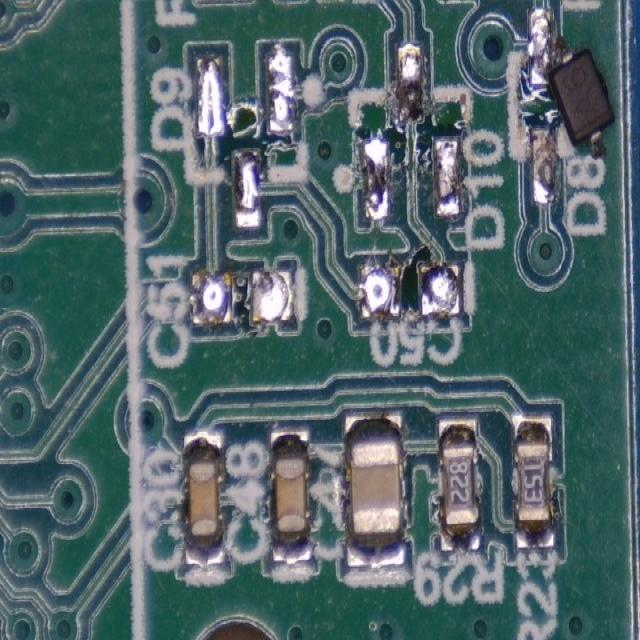Incorrect_installation: (529, 9, 616, 160)
